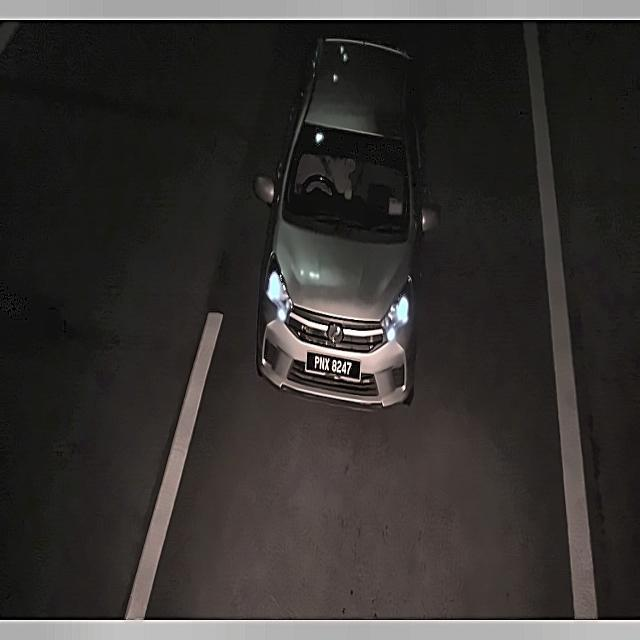car: (302, 345, 362, 387)
